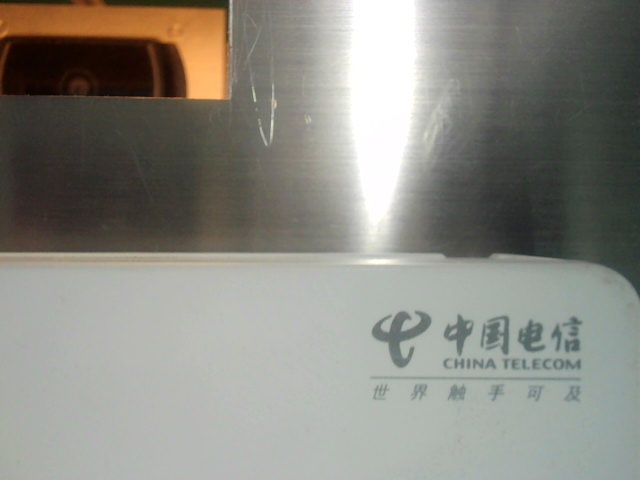AB_ChinaTelecom: (358, 299, 598, 415)
